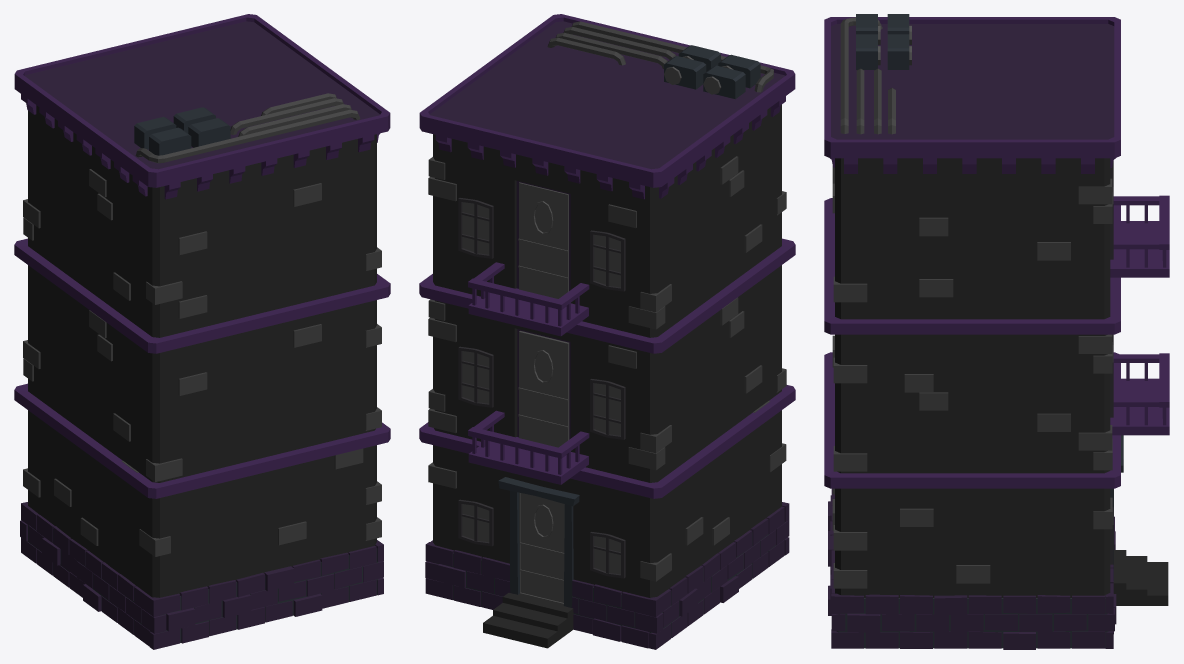
Rendered from 3Story_Balcony.glb.
3 renders of one model, left to right at view 1: azimuth 30°, elevation 25°; view 2: azimuth 150°, elevation 25°; view 3: azimuth 270°, elevation 25°, orthographic. The views are drawn at different scales.
Parts seen in each view (by area): view 1: 3Story_Balcony; view 2: 3Story_Balcony; view 3: 3Story_Balcony.
Part boxes in pixels (x1,y1,x2,y2): 3Story_Balcony: (14, 14, 390, 649); 3Story_Balcony: (419, 14, 795, 649); 3Story_Balcony: (824, 14, 1169, 649).
Size of the model in its own units: 2.16 by 4.21 by 2.51.
Materials: 1 (1 with a texture image).
